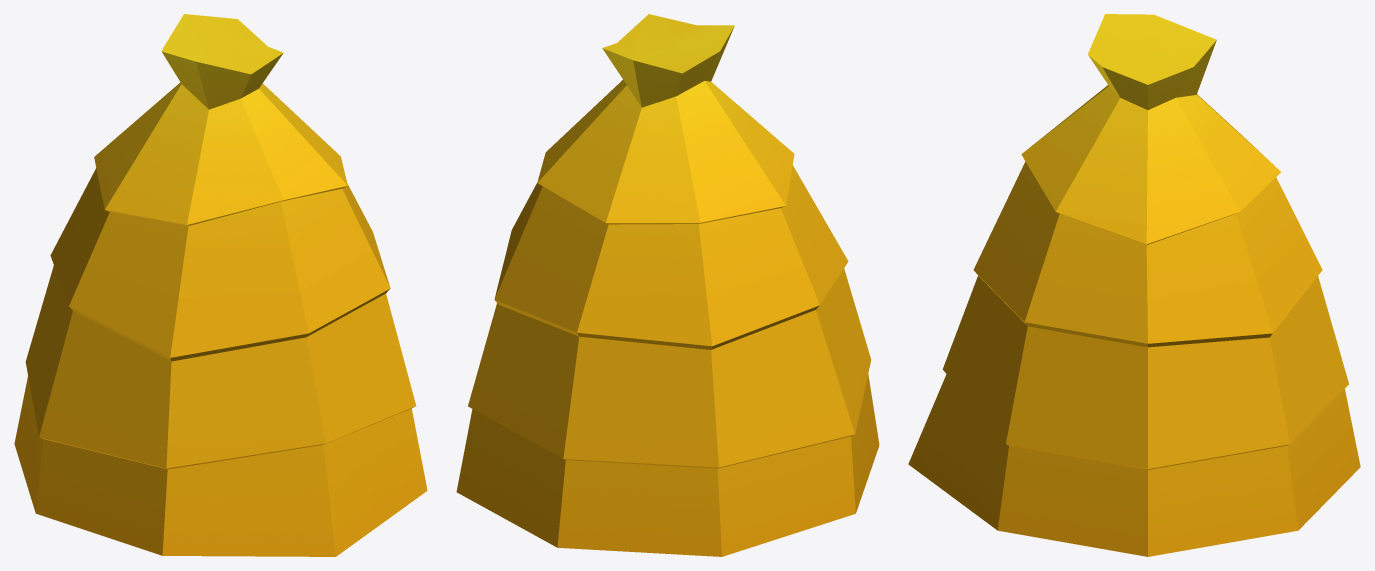
Rendered from FBX_HayStack.fbx.
The picture shows the model from 3 angles, left to right: view 1: azimuth 30°, elevation 25°; view 2: azimuth 150°, elevation 25°; view 3: azimuth 270°, elevation 25°; orthographic projection.
Parts seen in each view (by area): view 1: haystack; view 2: haystack; view 3: haystack.
Part boxes in pixels (<box>): haystack: <box>14,14,427,556</box>; haystack: <box>456,14,879,556</box>; haystack: <box>908,14,1360,556</box>.
Size of the model in its own units: 2.03 by 2.26 by 2.16.
